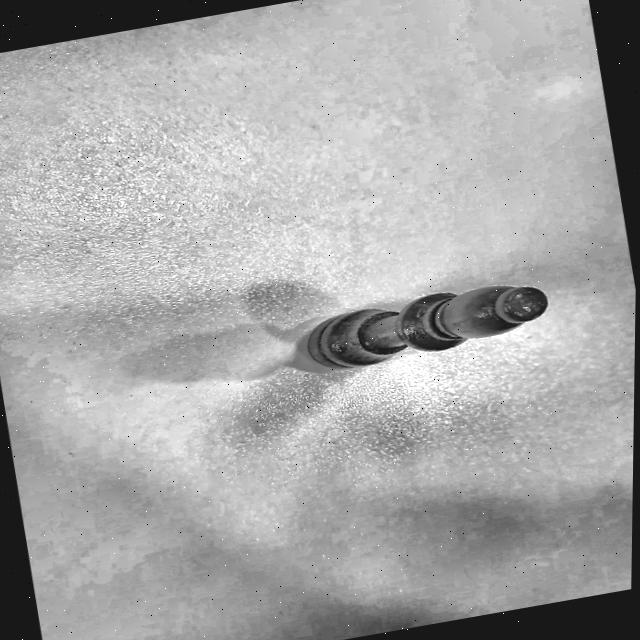black-bishop: (294, 268, 560, 380)
